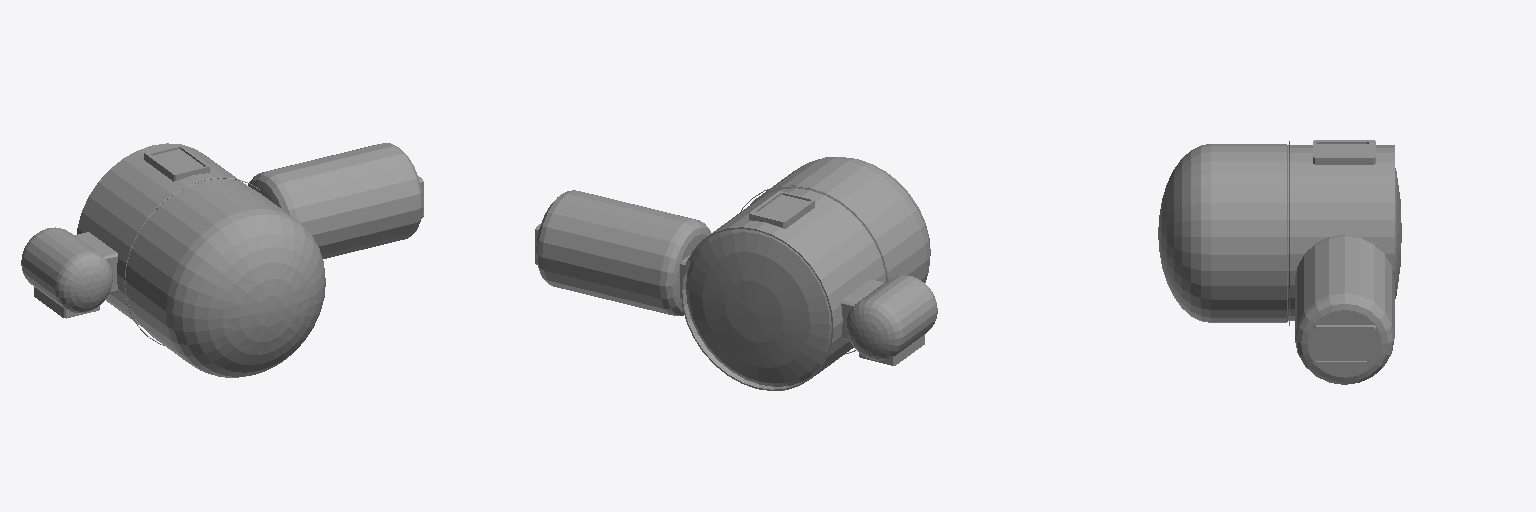
Rendered from HDU_Dome.OBJ.
3 renders of one model, left to right at view 1: azimuth 30°, elevation 25°; view 2: azimuth 150°, elevation 25°; view 3: azimuth 270°, elevation 25°, orthographic.
Visible parts, largest first — view 1: /ambf/env/HDU_Dome_HDU_Dome_HDU_lowRez_part1.001; view 2: /ambf/env/HDU_Dome_HDU_Dome_HDU_lowRez_part1.001; view 3: /ambf/env/HDU_Dome_HDU_Dome_HDU_lowRez_part1.001.
Part boxes in pixels (x1,y1,x2,y2): /ambf/env/HDU_Dome_HDU_Dome_HDU_lowRez_part1.001: (21, 143, 423, 377); /ambf/env/HDU_Dome_HDU_Dome_HDU_lowRez_part1.001: (535, 157, 937, 390); /ambf/env/HDU_Dome_HDU_Dome_HDU_lowRez_part1.001: (1158, 140, 1401, 384).
Size of the model in its own units: 6.1 by 2.66 by 3.49.